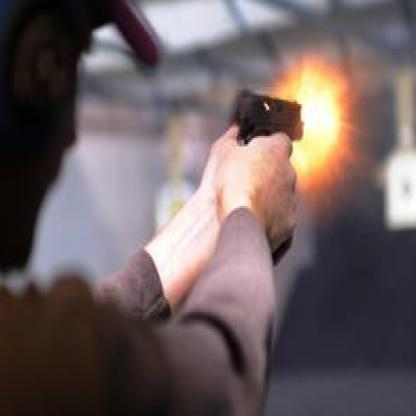gun: (229, 89, 305, 270)
